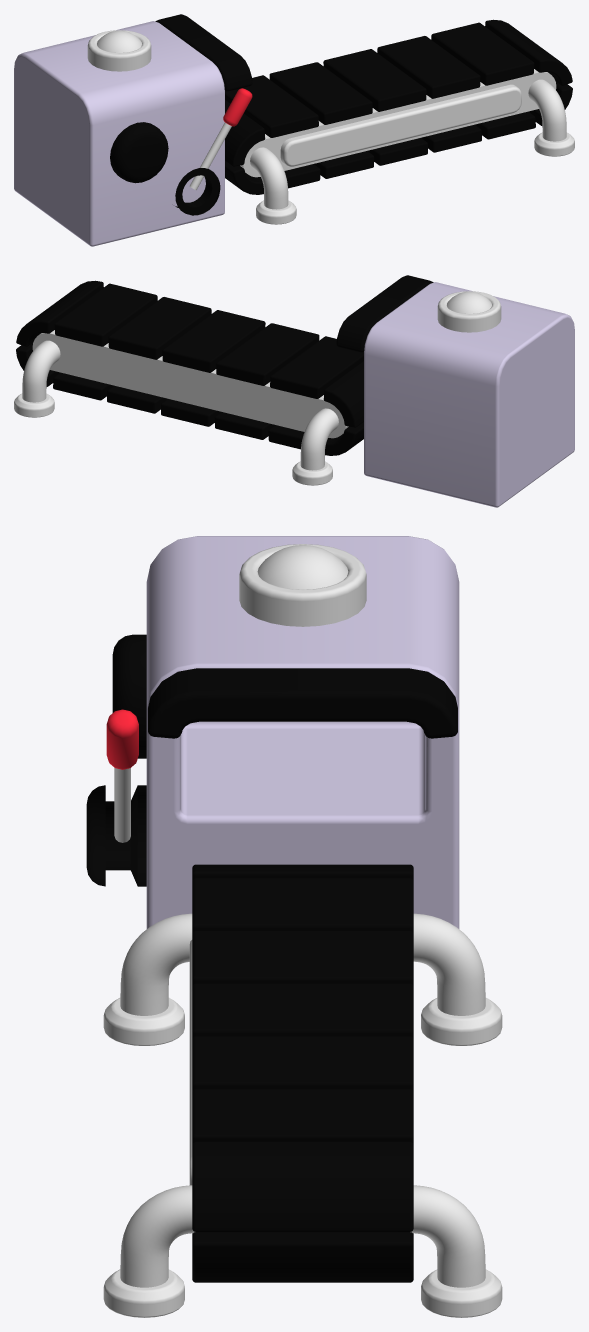
The model's file is Cinta_Transportadora.fbx.
3 views of the same model, one above another, from view 1: azimuth 30°, elevation 25°; view 2: azimuth 150°, elevation 25°; view 3: azimuth 270°, elevation 25° (orthographic). The views are drawn at different scales.
Visible parts, largest first — view 1: Plane.004, Plane.001, Plane.003, Plane.002, Vert, Circle.001, Plane.011, Circle.003, Circle, Circle.002, Roundcube.003, Cylinder (+1 smaller); view 2: Plane.004, Plane.001, Plane.002, Vert, Plane.011, Circle.003, Circle, Roundcube.003; view 3: Plane.001, Plane.004, Vert, Plane.011, Circle, Circle.003, Circle.002, Roundcube.003, Circle.001, Cylinder, Vert.001, Plane.003.
Part boxes in pixels (left/top/right/bottom): Plane.004: left=14, top=21, right=224, bottom=246; Plane.001: left=225, top=19, right=572, bottom=194; Plane.003: left=280, top=84, right=521, bottom=166; Plane.002: left=240, top=69, right=556, bottom=177; Vert: left=250, top=79, right=566, bottom=209; Circle.001: left=110, top=122, right=168, bottom=183; Plane.011: left=155, top=14, right=252, bottom=91; Circle.003: left=87, top=30, right=151, bottom=71; Circle: left=256, top=132, right=574, bottom=224; Circle.002: left=175, top=168, right=220, bottom=215; Roundcube.003: left=97, top=30, right=141, bottom=52; Cylinder: left=223, top=88, right=252, bottom=126; Plane.004: left=364, top=282, right=574, bottom=507; Plane.001: left=16, top=280, right=363, bottom=455; Plane.002: left=32, top=330, right=348, bottom=438; Vert: left=22, top=340, right=338, bottom=470; Plane.011: left=336, top=275, right=433, bottom=352; Circle.003: left=437, top=291, right=501, bottom=332; Circle: left=14, top=393, right=332, bottom=485; Roundcube.003: left=447, top=291, right=491, bottom=313; Plane.001: left=192, top=864, right=413, bottom=1282; Plane.004: left=146, top=536, right=459, bottom=928; Vert: left=120, top=913, right=485, bottom=1287; Plane.011: left=148, top=668, right=457, bottom=738; Circle: left=103, top=998, right=502, bottom=1317; Circle.003: left=239, top=544, right=366, bottom=626; Circle.002: left=86, top=785, right=146, bottom=886; Roundcube.003: left=257, top=545, right=348, bottom=589; Circle.001: left=112, top=634, right=146, bottom=758; Cylinder: left=106, top=709, right=138, bottom=769; Vert.001: left=114, top=768, right=130, bottom=842; Plane.003: left=189, top=940, right=192, bottom=1185.
Bounding box in the file's own units: 730 × 258 × 266.
